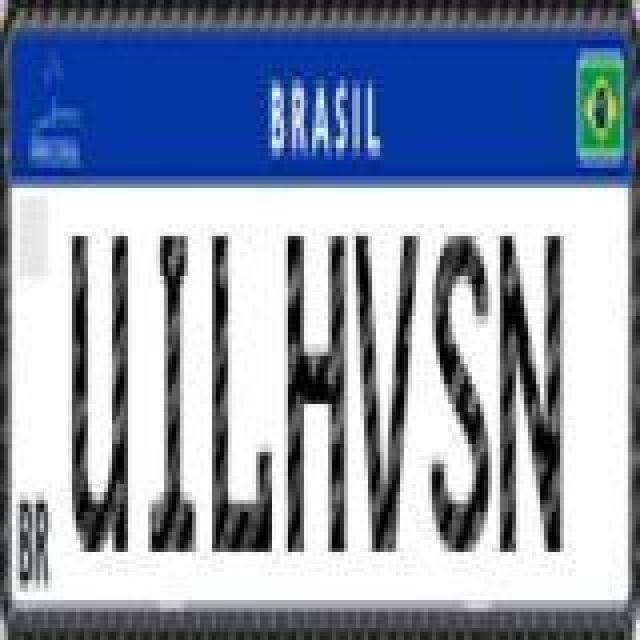H: (284, 232, 348, 560)
I: (146, 228, 198, 556)
L: (208, 228, 272, 556)
N: (494, 226, 562, 558)
S: (428, 226, 492, 558)
U: (70, 232, 130, 560)
V: (350, 226, 418, 558)
